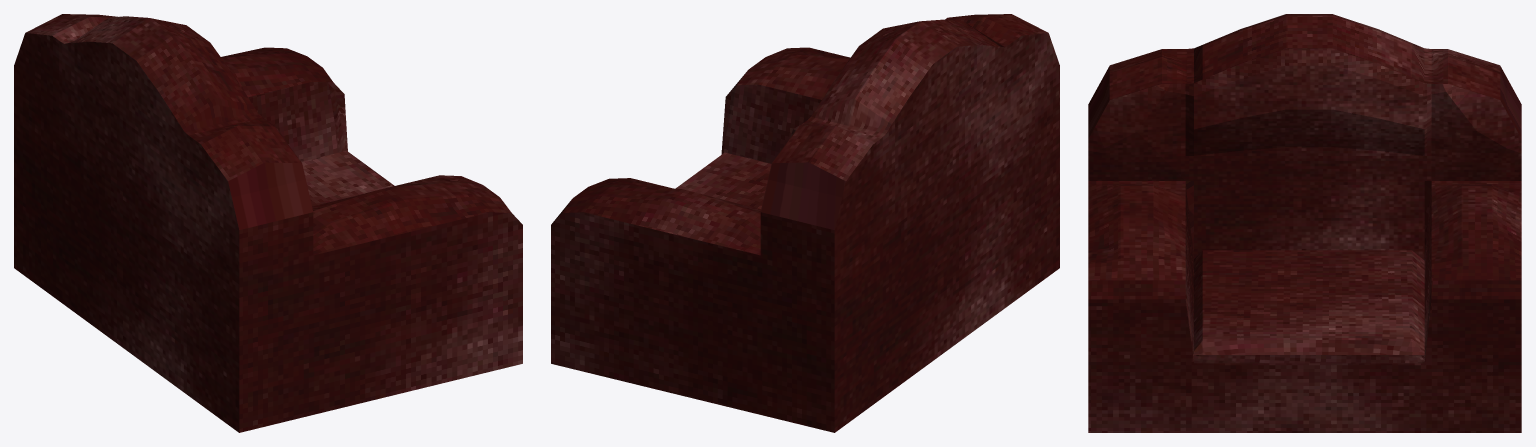
The model's file is Armchair.fbx.
3 renders of one model, left to right at view 1: azimuth 30°, elevation 25°; view 2: azimuth 150°, elevation 25°; view 3: azimuth 270°, elevation 25°, orthographic. The views are drawn at different scales.
Visible parts, largest first — view 1: Cube; view 2: Cube; view 3: Cube.
Part boxes in pixels (box(x1,y1,x2,y2)): Cube: box(14, 14, 522, 432); Cube: box(551, 14, 1059, 432); Cube: box(1088, 14, 1521, 432).
Size of the model in its own units: 80 by 84.4 by 110.
Materials: 1 (1 with a texture image).
